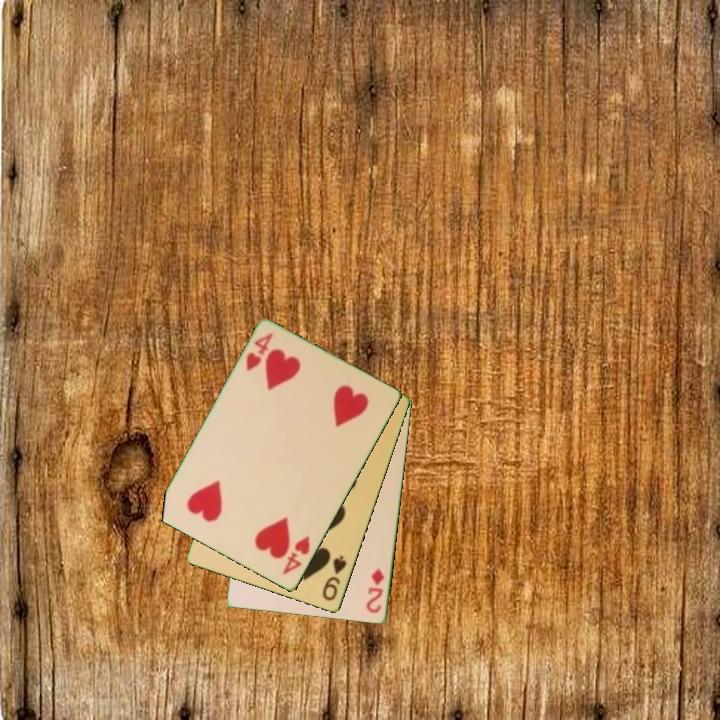2d: (363, 565, 387, 616)
4h: (279, 533, 313, 578), (242, 329, 276, 374)
9s: (319, 552, 350, 604)
